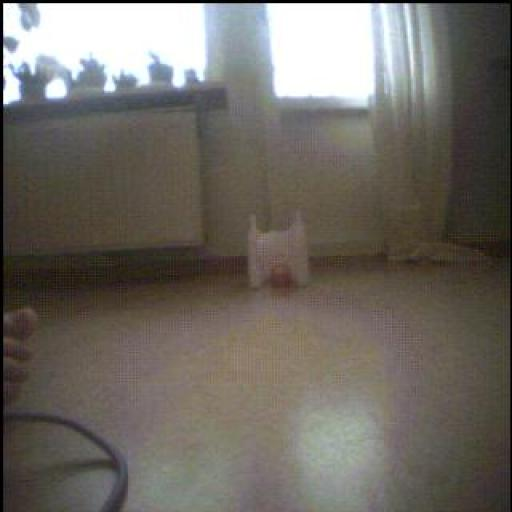Basket: (271, 265, 295, 289)
